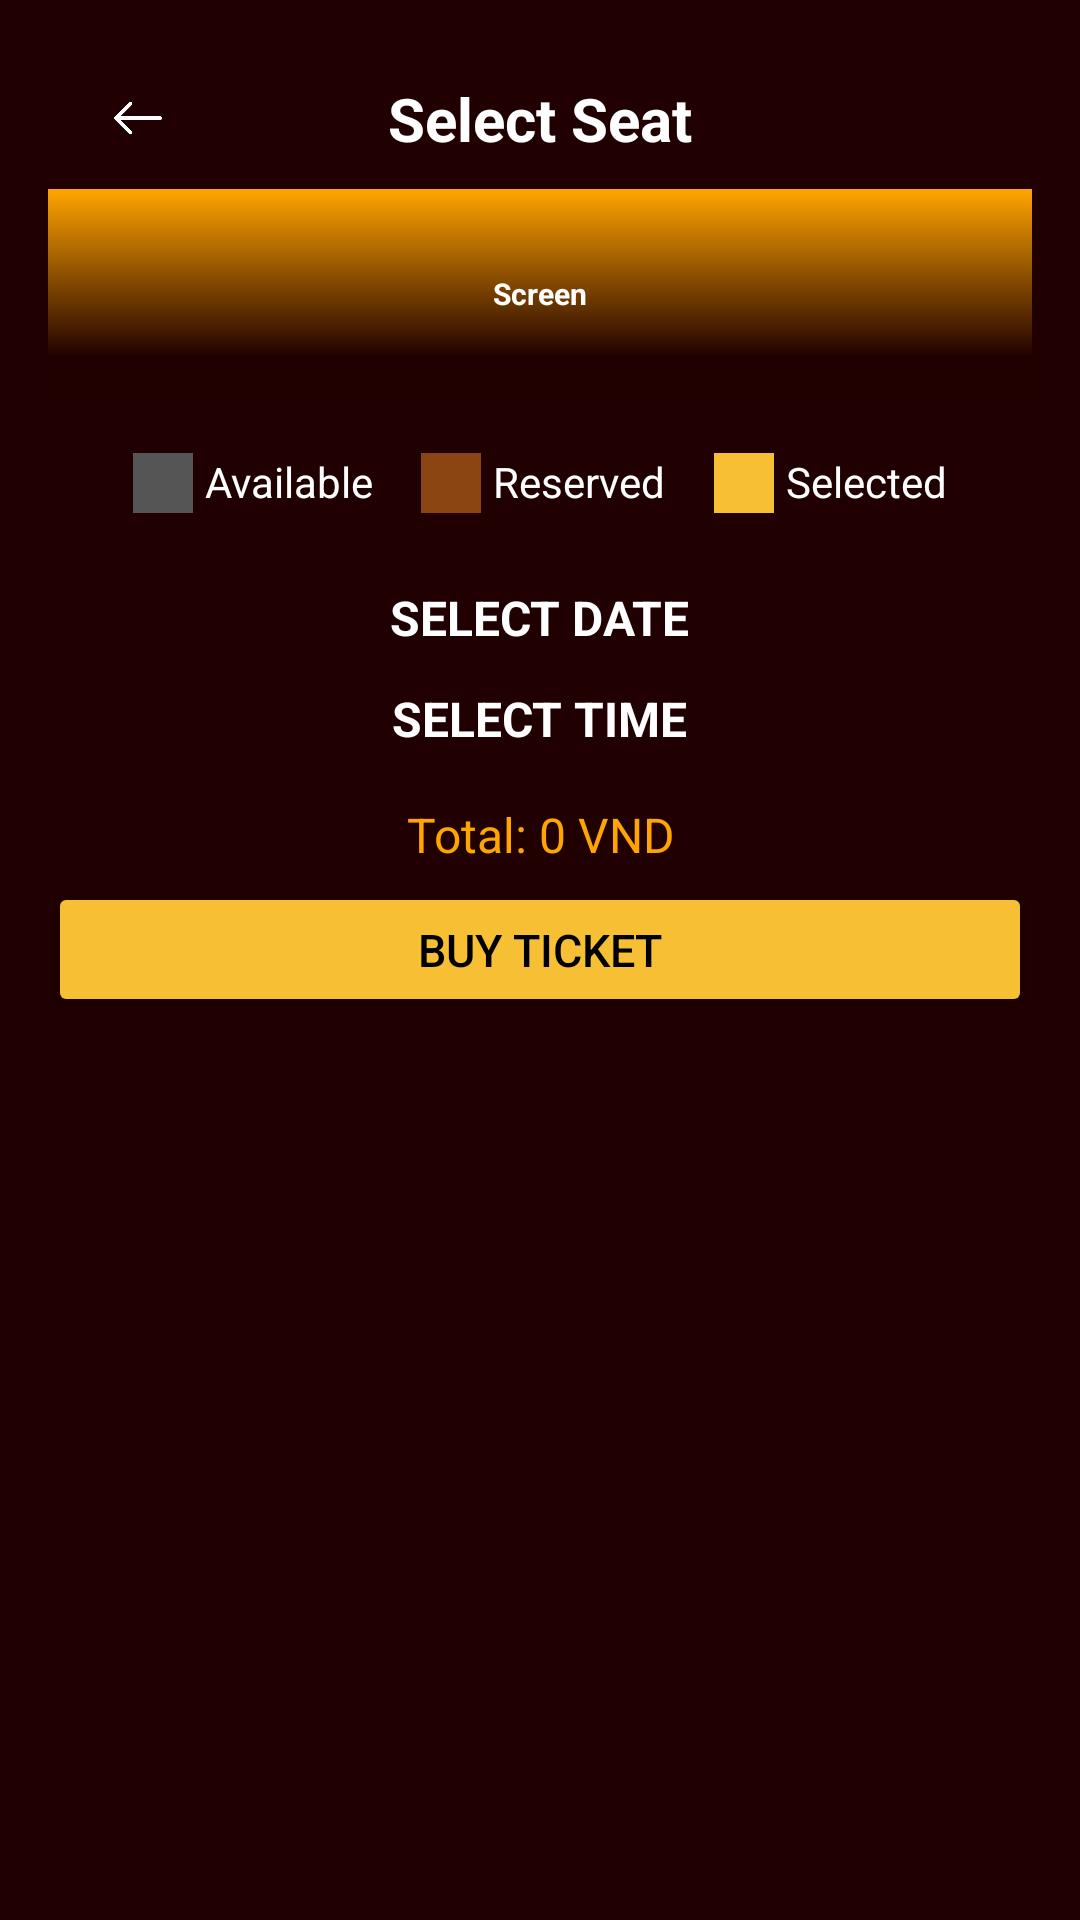

Screen size 1080w x 1920h. Icon name, then its box in pixels as (x1, y1, x2, y2):
arrow back: (114, 102, 162, 135)
